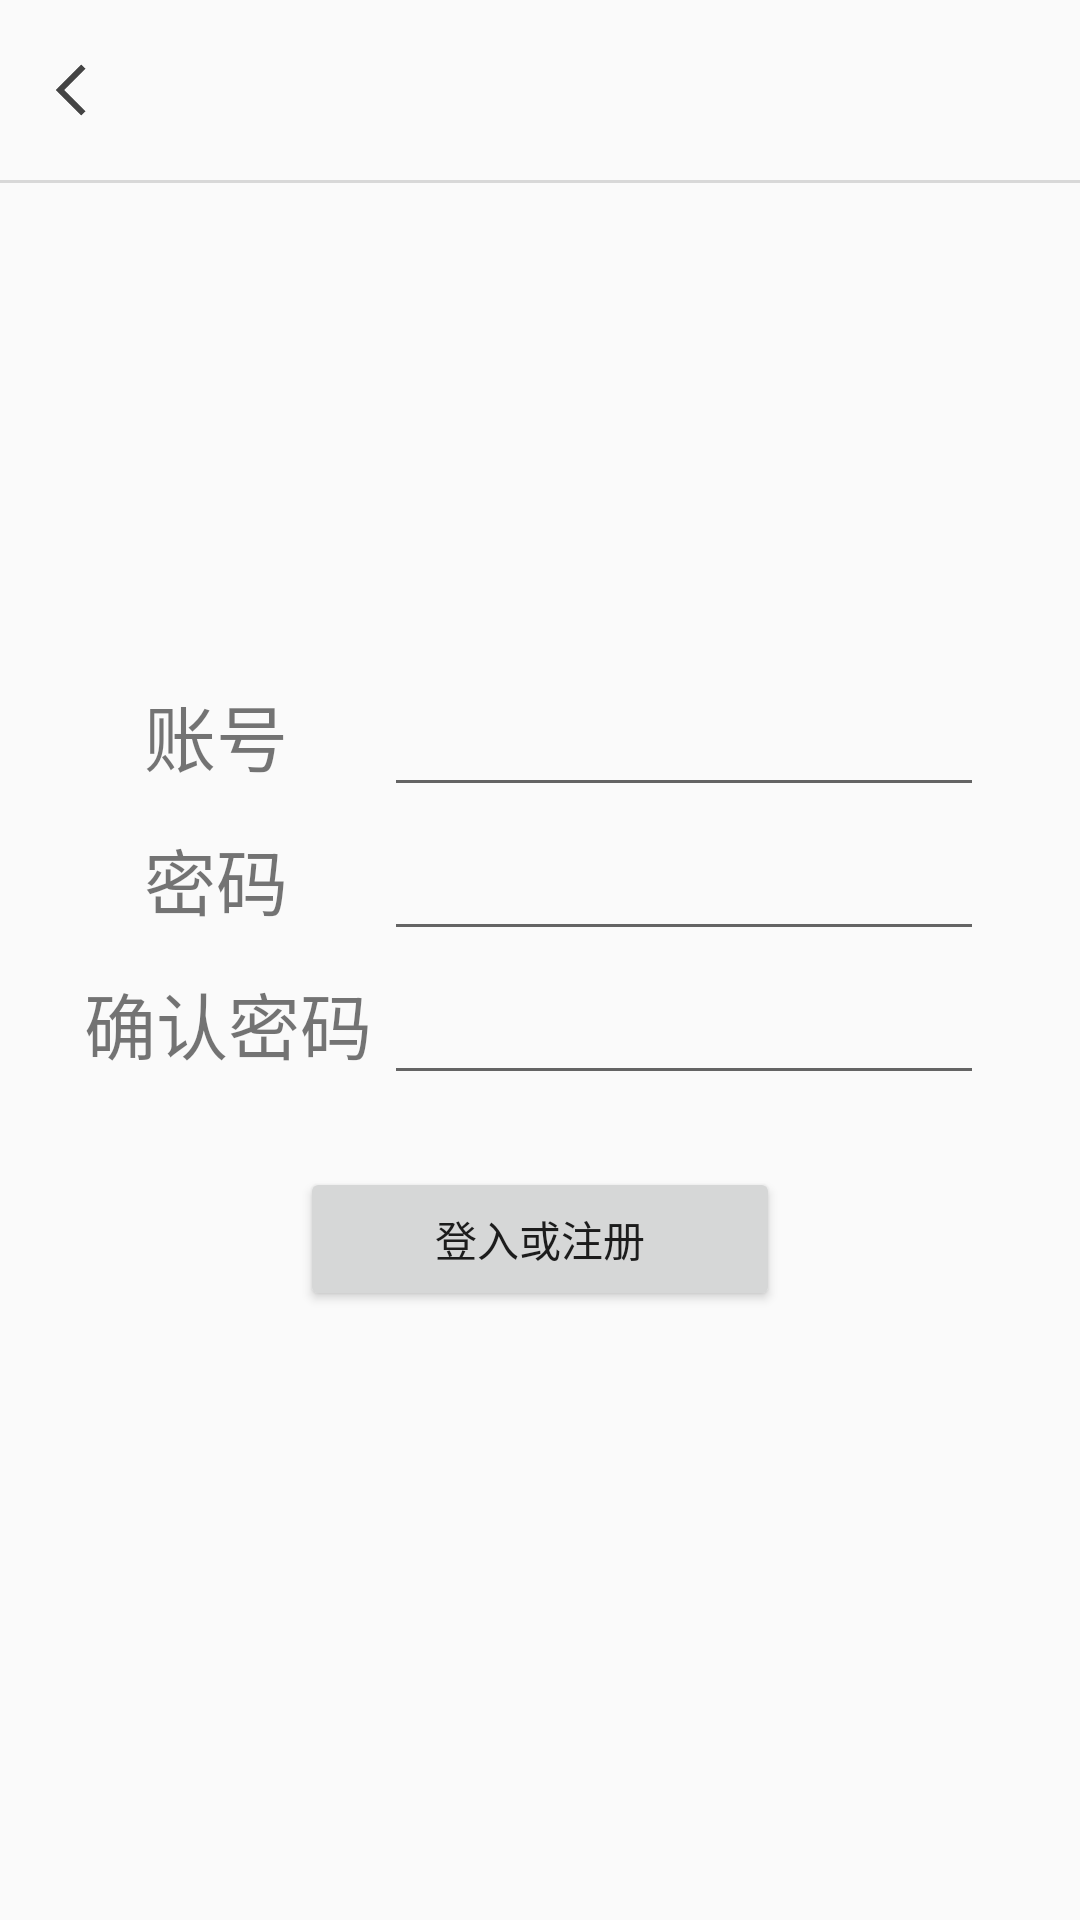

Icon click points for this 1080px x 1920px phone screenshot, format (x=x, y=y):
to left: (x=71, y=90)
